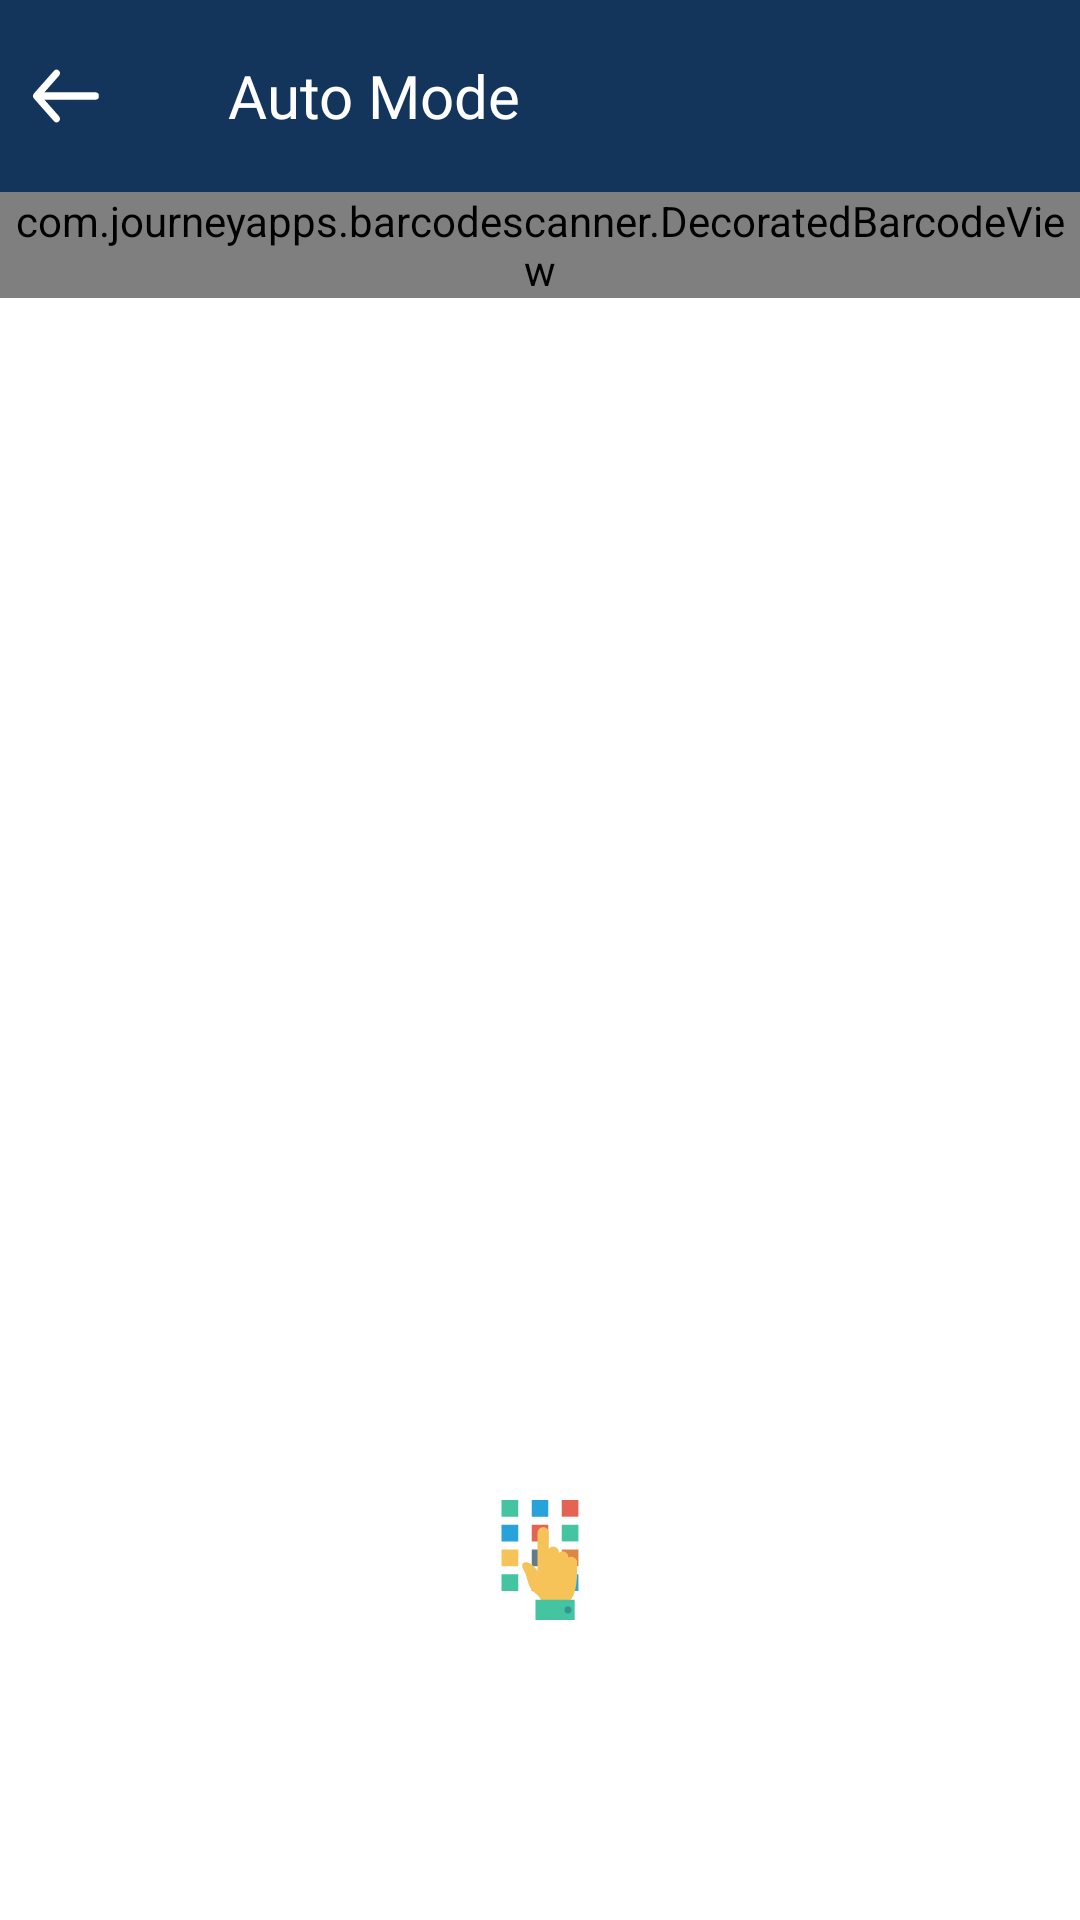

Locate icon controls on the screen. Image size 1080 x 1920, boxes as (x1, y1, x2, y2).
back: (33, 69, 99, 123)
keypad: (501, 1500, 579, 1620)
